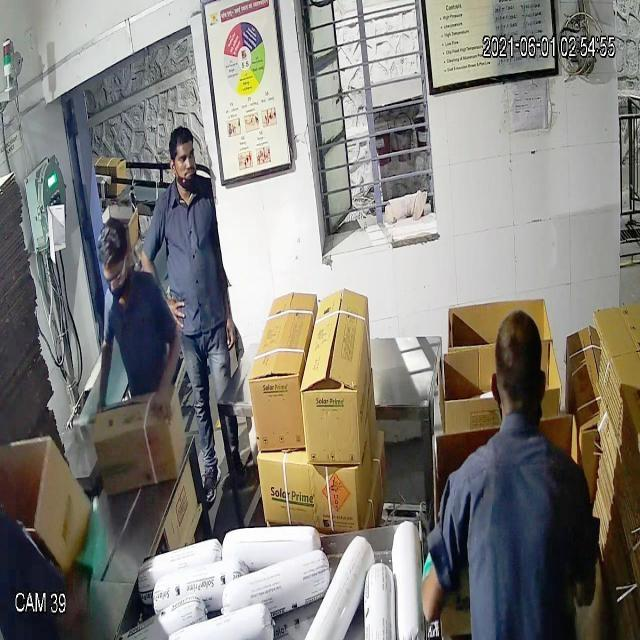hairnet: (177, 160, 202, 194), (109, 270, 134, 303)
